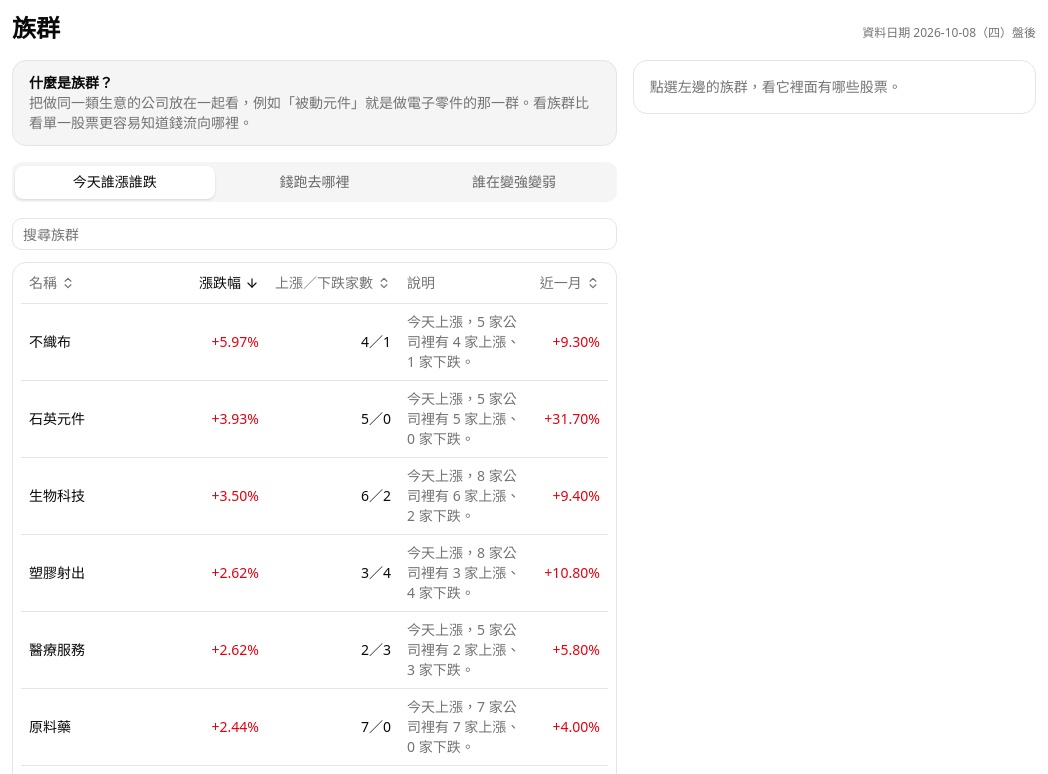
Scenario: SectorsScreen › from md up › marks a pane fetched live as newer than the board beside it
Click the button "石英元件" at (57, 418), box [29,408,85,428]
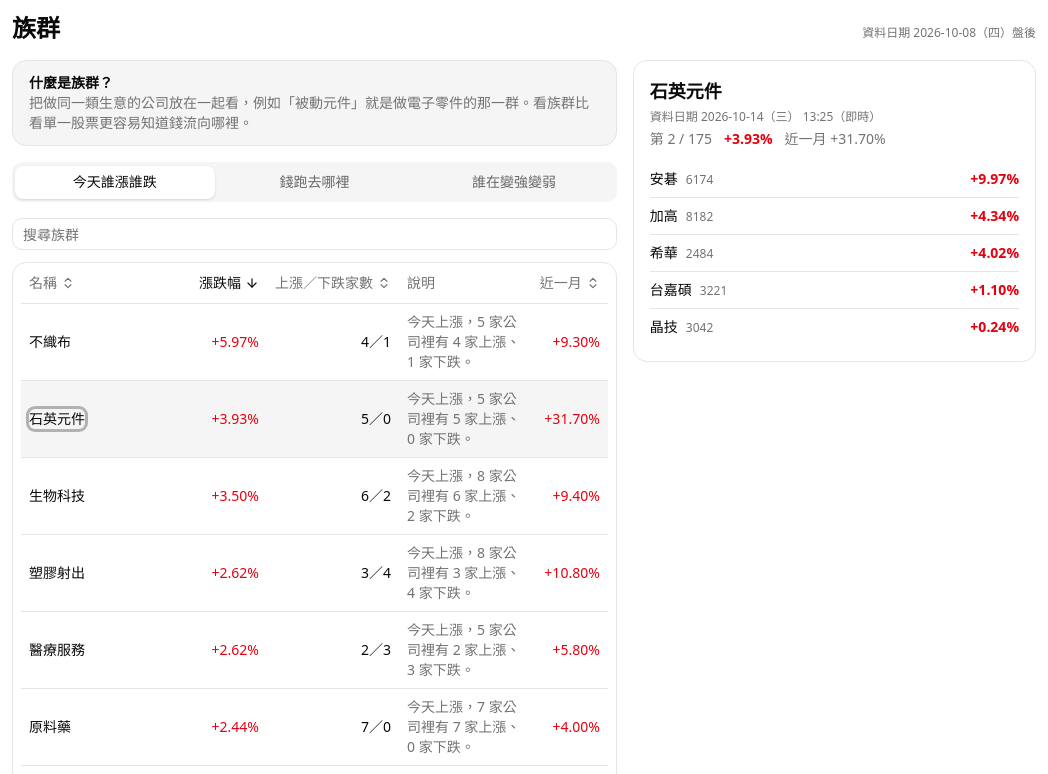
expect the element named "石英元件成分股" shows "資料日期 2026-10-14（三） 13:25（即時）": met, box [633,60,1036,362]
